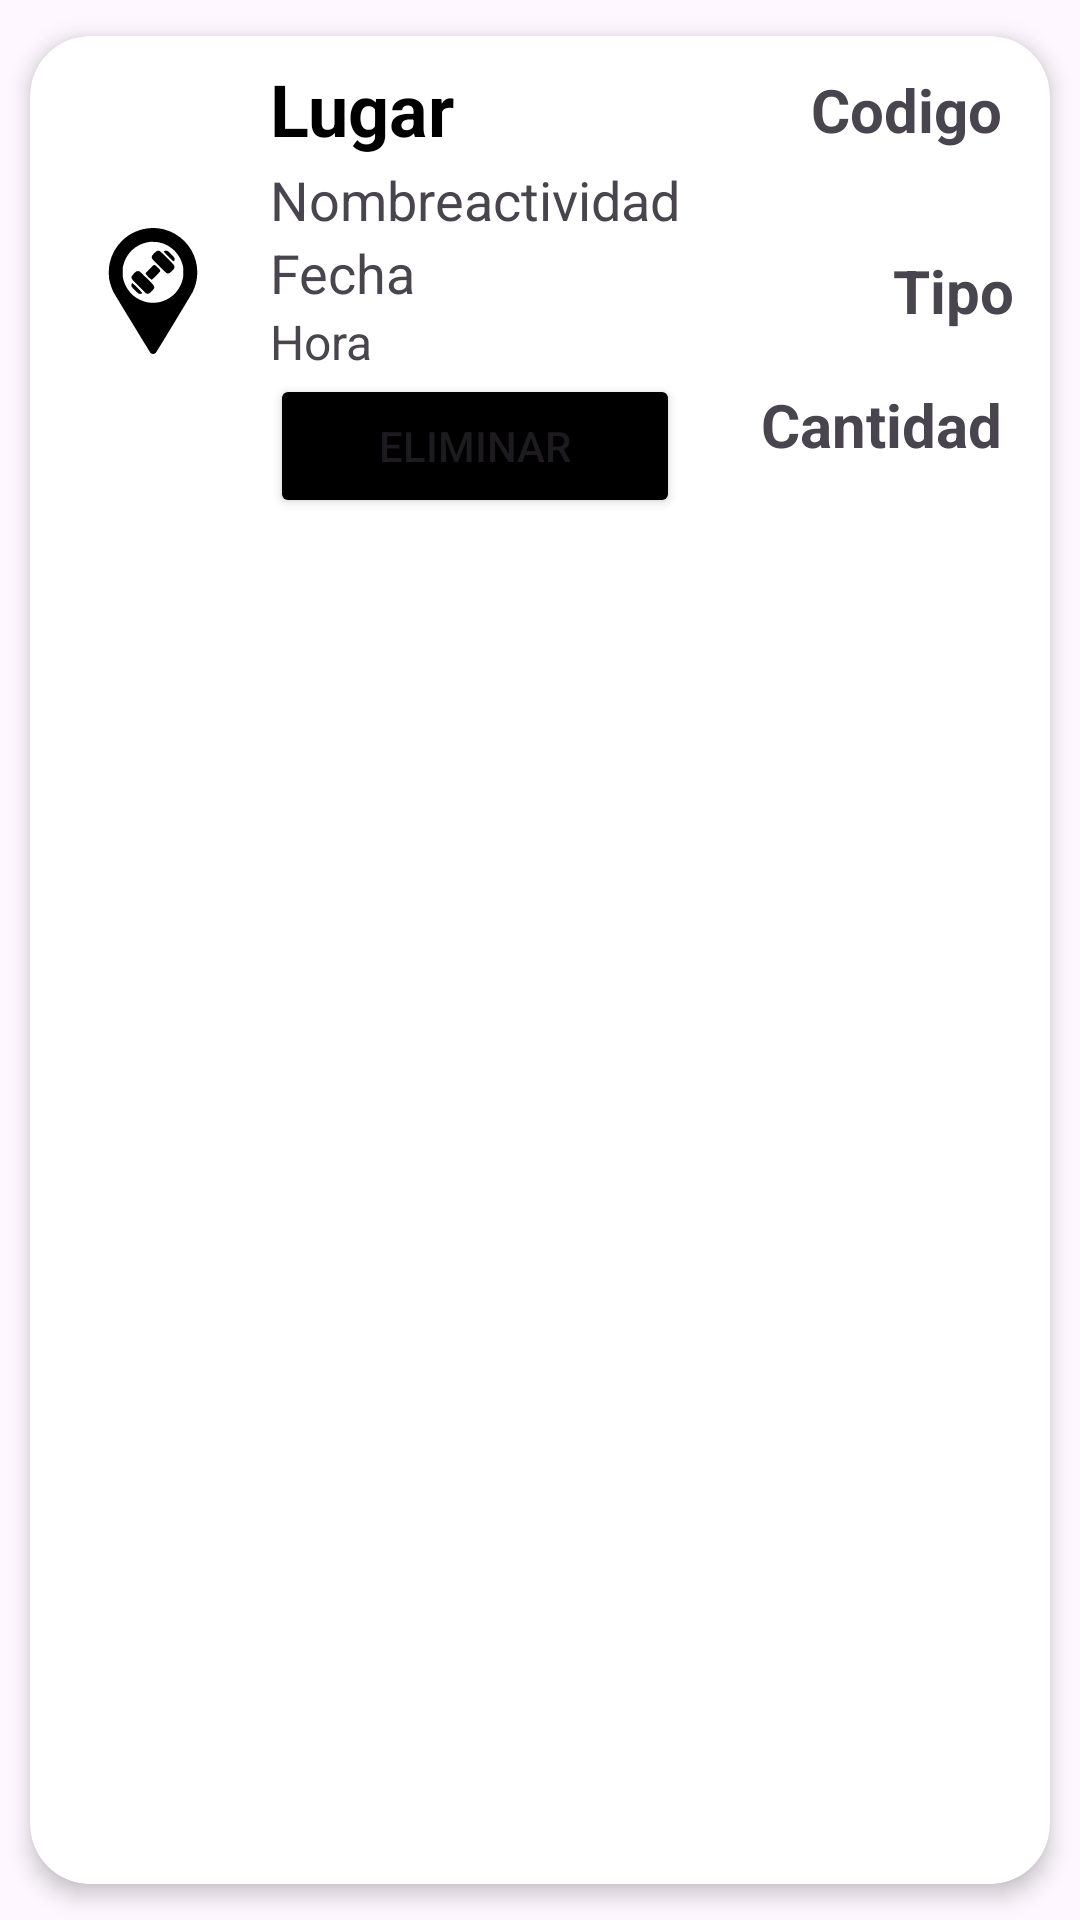

Locate icon controls on the screen. Image size 1080 x 1920, boxes as (x1, y1, x2, y2).
posicioon pesa: (108, 228, 198, 354)
